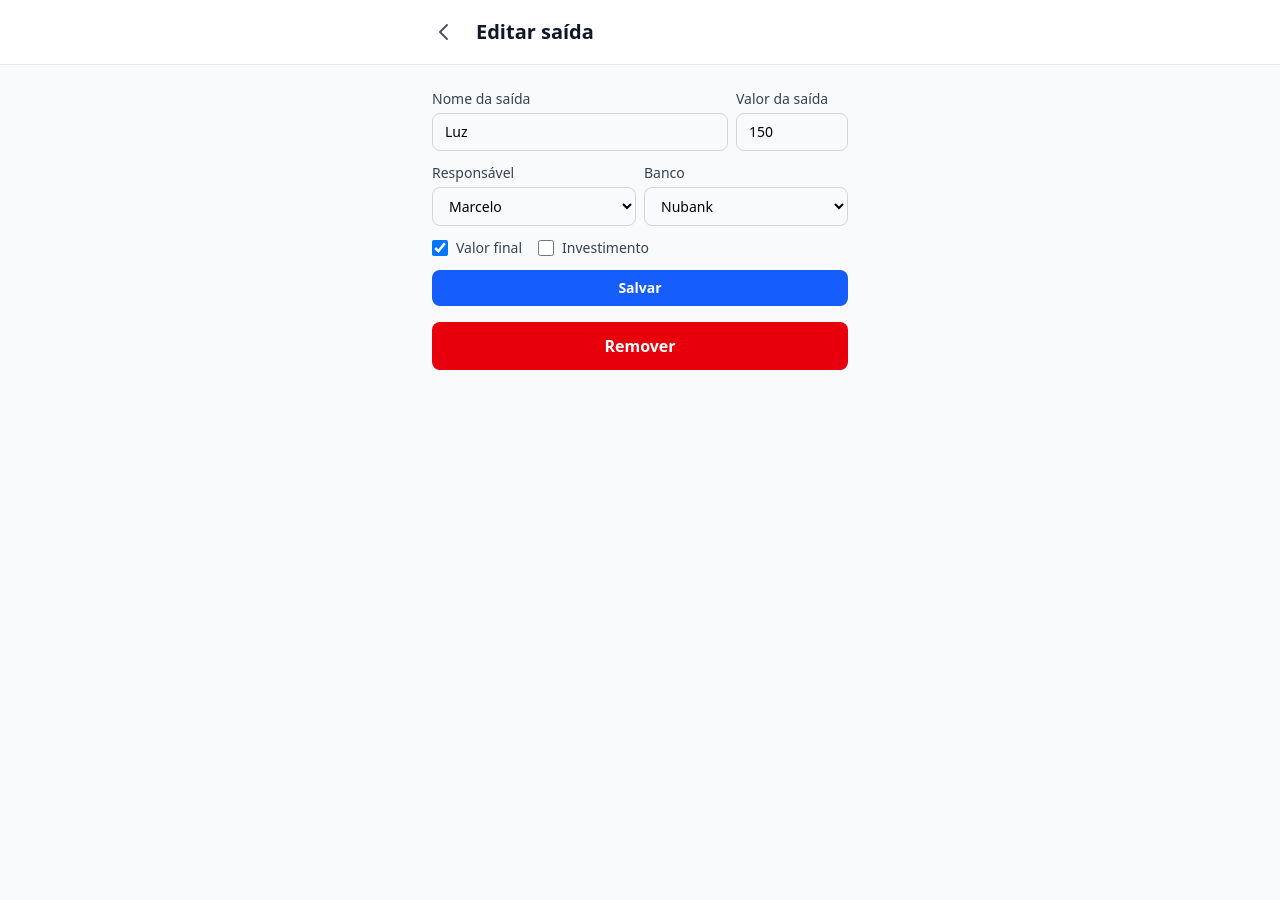
Scenario: Outflow editor › cancels the confirmation modal without deleting anything
// When I open the confirmation and cancel it
Click the button "Remover": (640, 346) [432,322,848,370]
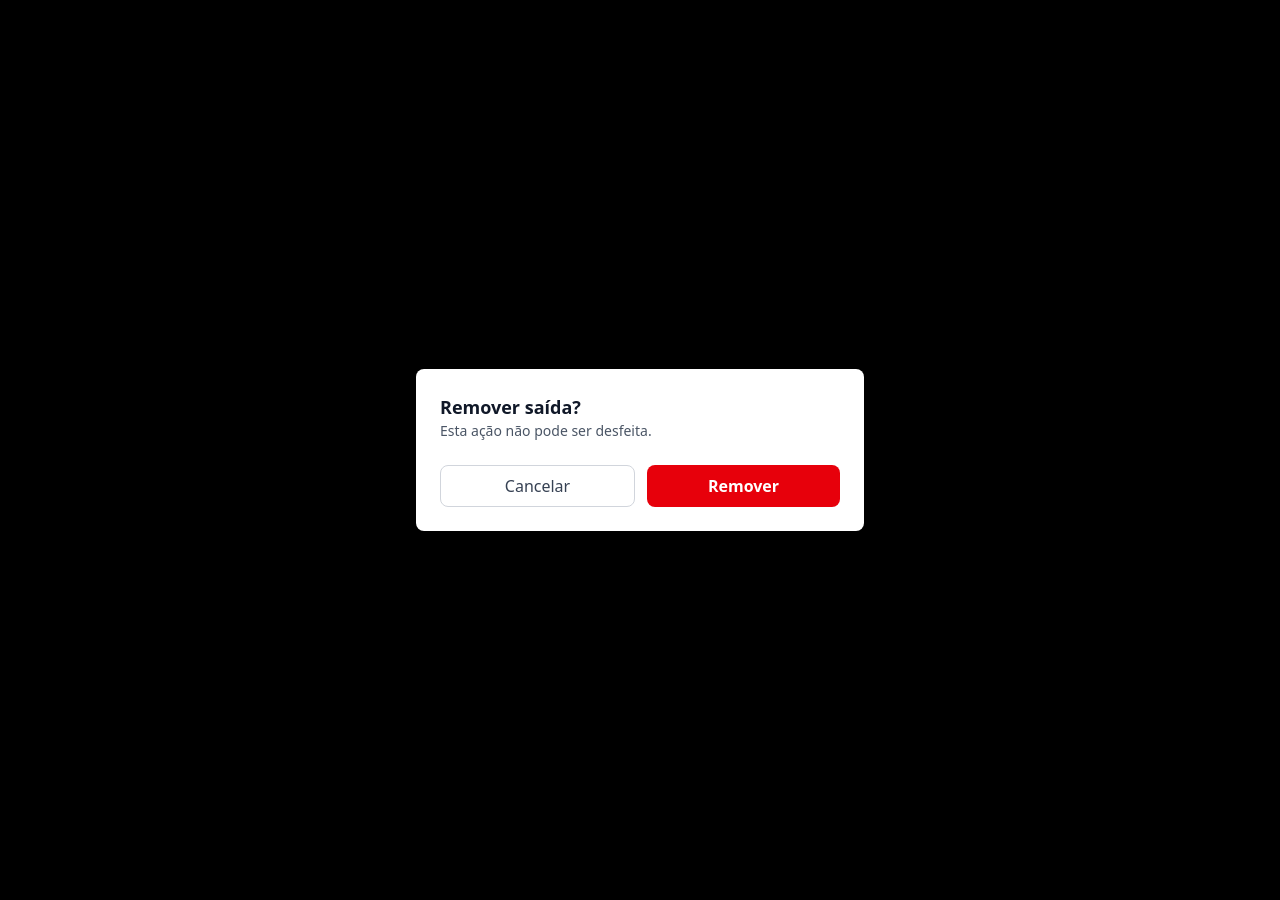
Click the button "Cancelar": (538, 486) [440,465,635,507]
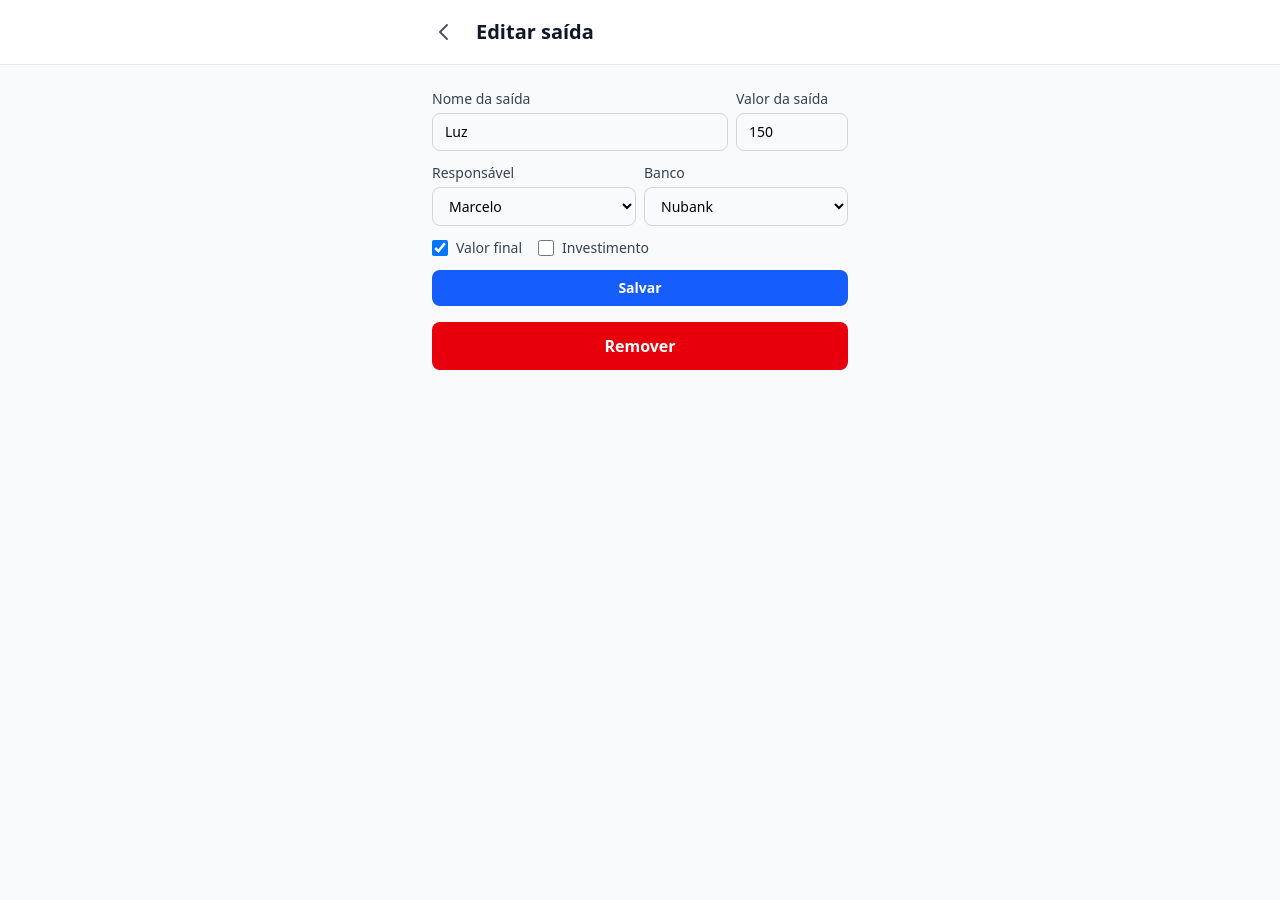
Expected: the dialog is gone
